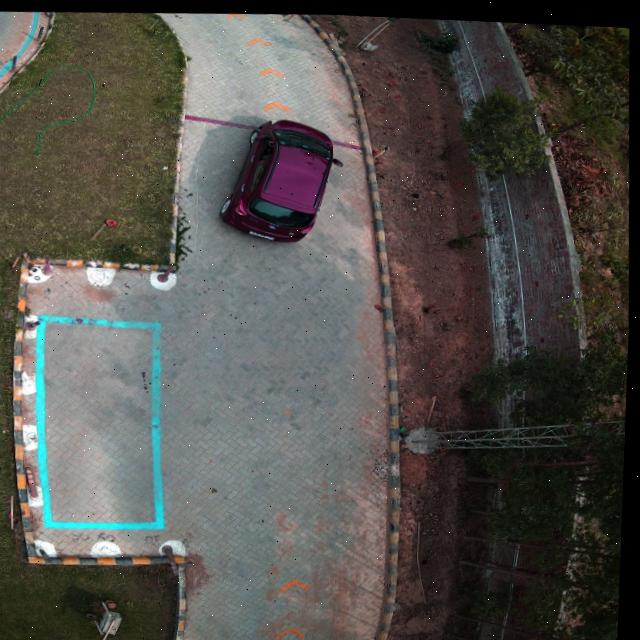car: (222, 116, 340, 239)
